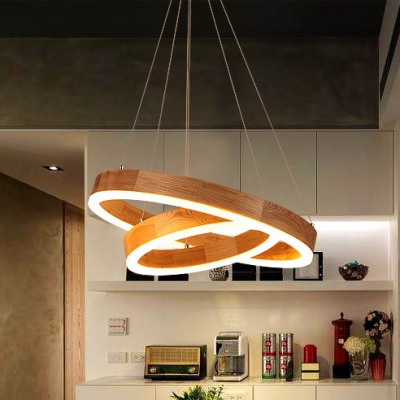chandelier: (82, 1, 333, 281)
